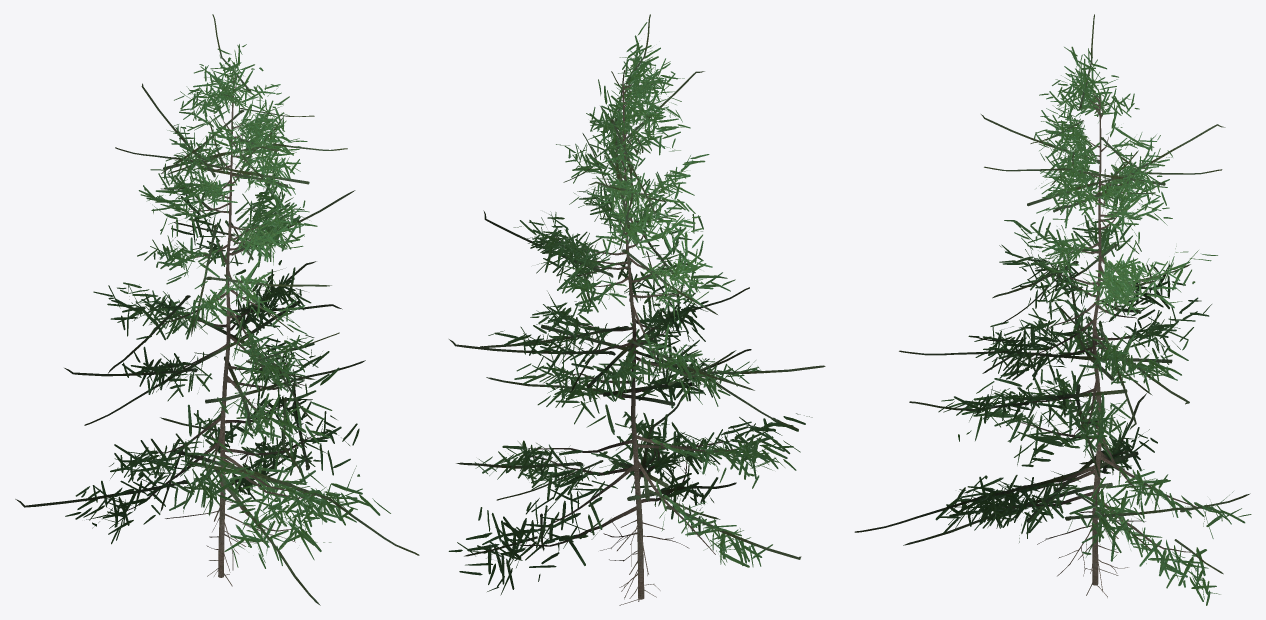
File: fir_tree.glb
3 renders of one model, left to right at view 1: azimuth 30°, elevation 25°; view 2: azimuth 150°, elevation 25°; view 3: azimuth 270°, elevation 25°, orthographic. The views are drawn at different scales.
Parts seen in each view (by area): view 1: fir_sapling_medium_b_LOD0; view 2: fir_sapling_medium_b_LOD0; view 3: fir_sapling_medium_b_LOD0.
Boxes of the visible parts, bbox=[...] form: fir_sapling_medium_b_LOD0: bbox=[15, 14, 419, 605]; fir_sapling_medium_b_LOD0: bbox=[448, 14, 825, 605]; fir_sapling_medium_b_LOD0: bbox=[854, 14, 1251, 605].
Size of the model in its own units: 4.88 by 8.1 by 5.08.
Materials: 3 (3 with a texture image).
